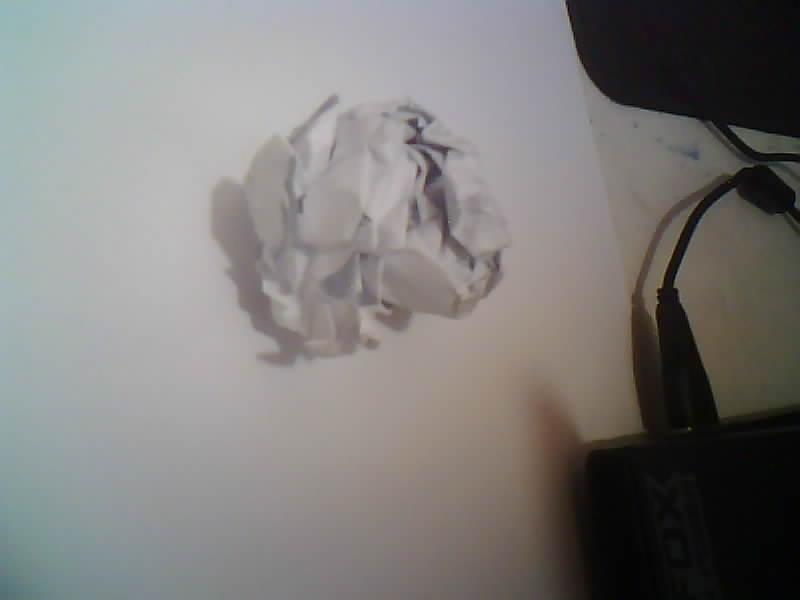biodegradable: (244, 96, 509, 352)
